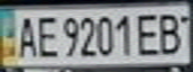0: (96, 12, 115, 57)
1: (112, 11, 136, 57)
2: (78, 12, 96, 59)
9: (57, 12, 81, 59)
A: (12, 12, 39, 59)
B: (154, 9, 190, 56)
E: (133, 10, 163, 57), (33, 12, 60, 60)
